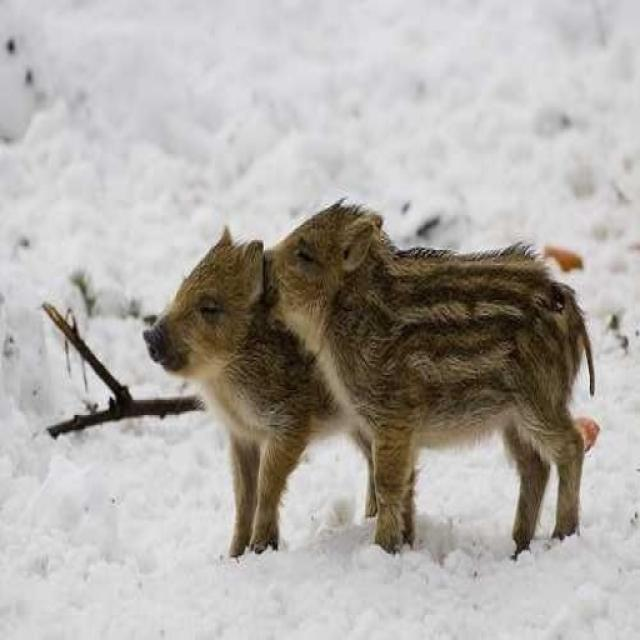pig: (279, 204, 634, 532), (131, 214, 447, 554)
